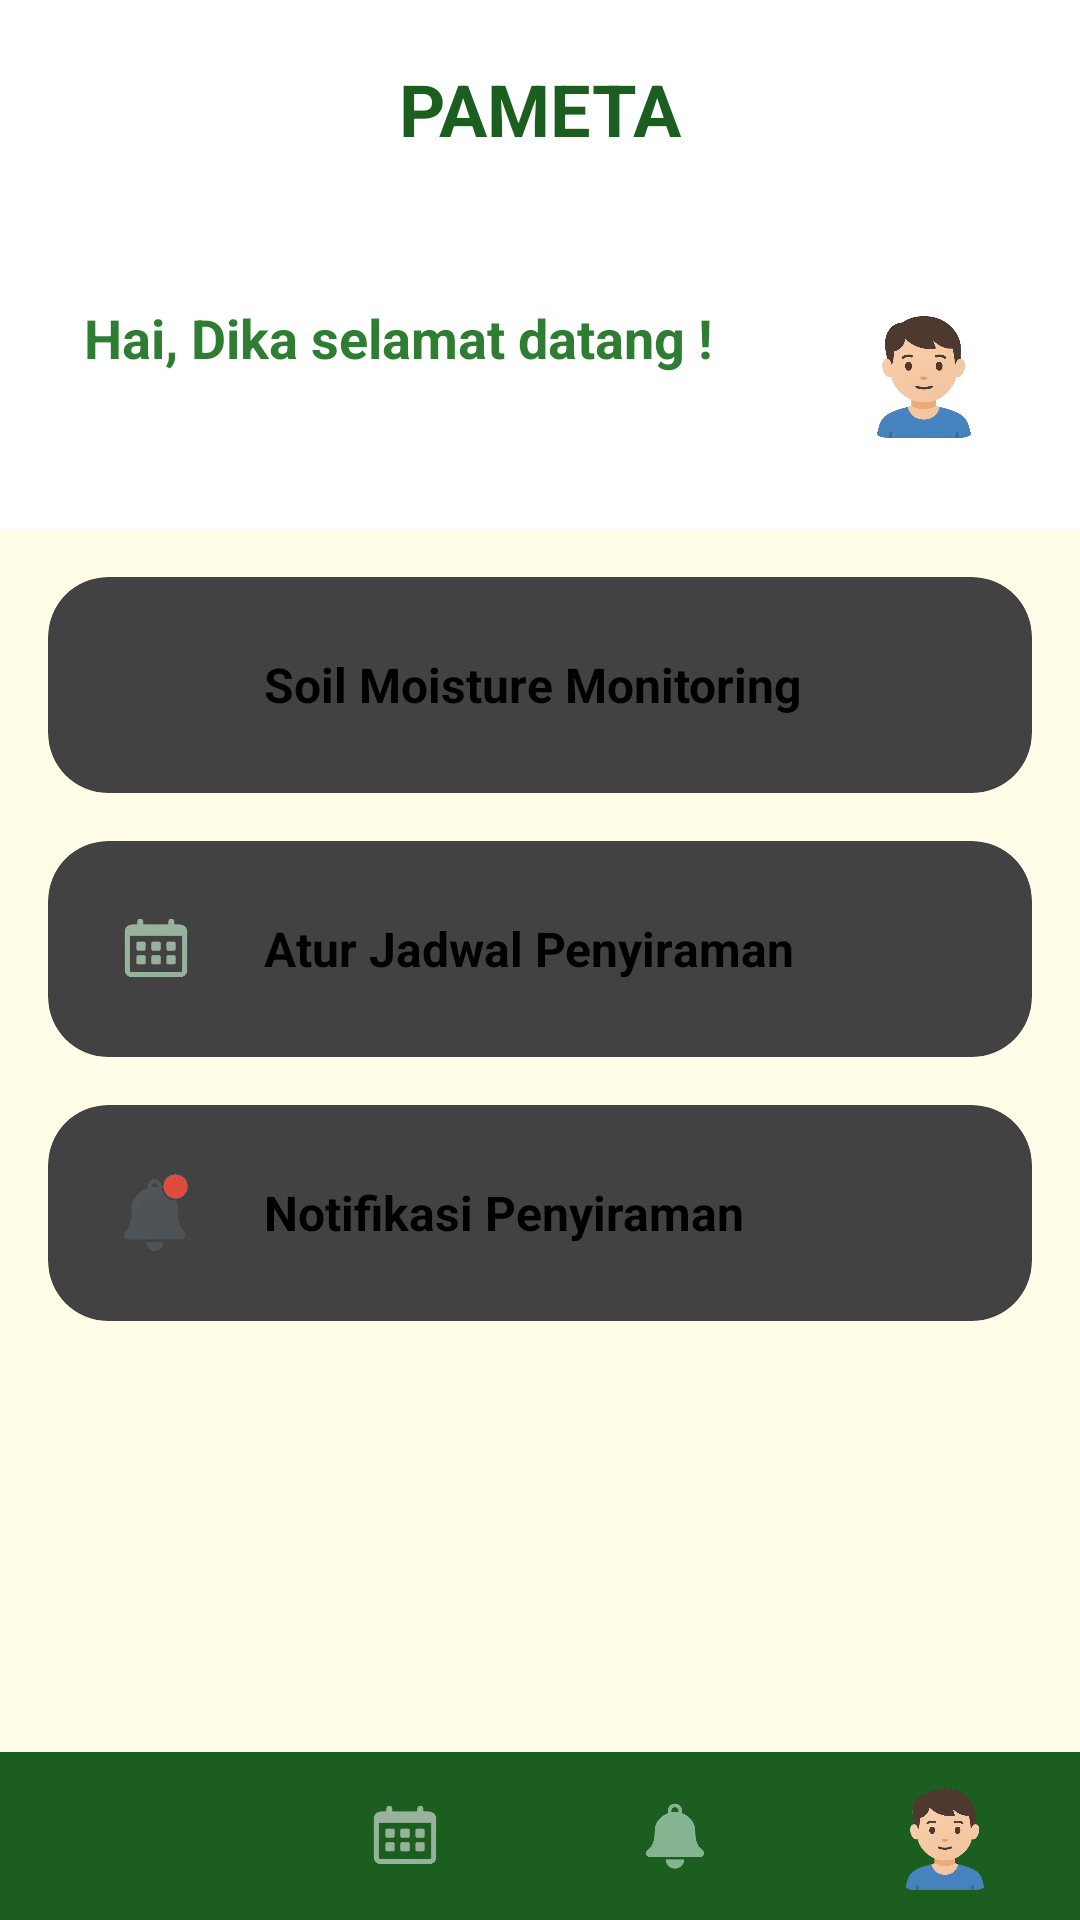

Icon bounding boxes for this 1080px×1920px phone screenshot, format (x1, y1, x2, y2):
Calendar Icon: (125, 919, 187, 977)
Nav Bell: (646, 1804, 704, 1869)
Nav Calendar: (374, 1806, 436, 1864)
Nav User: (906, 1789, 984, 1890)
Notification Icon: (124, 1174, 188, 1250)
User Icon: (877, 316, 971, 438)
